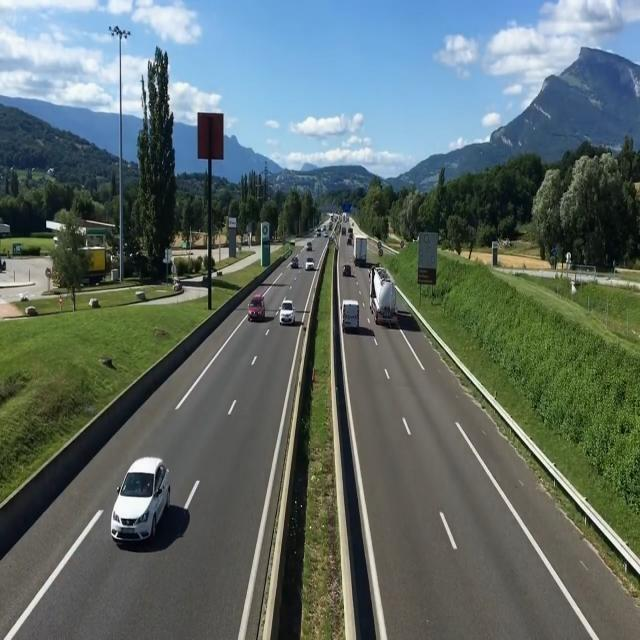Car: (94, 447, 178, 555), (274, 293, 297, 325), (244, 291, 265, 322), (340, 260, 359, 277), (303, 251, 317, 274), (306, 237, 320, 255), (290, 255, 301, 270)
Truck: (370, 267, 402, 328), (352, 236, 372, 266)
Van: (339, 293, 365, 332)
